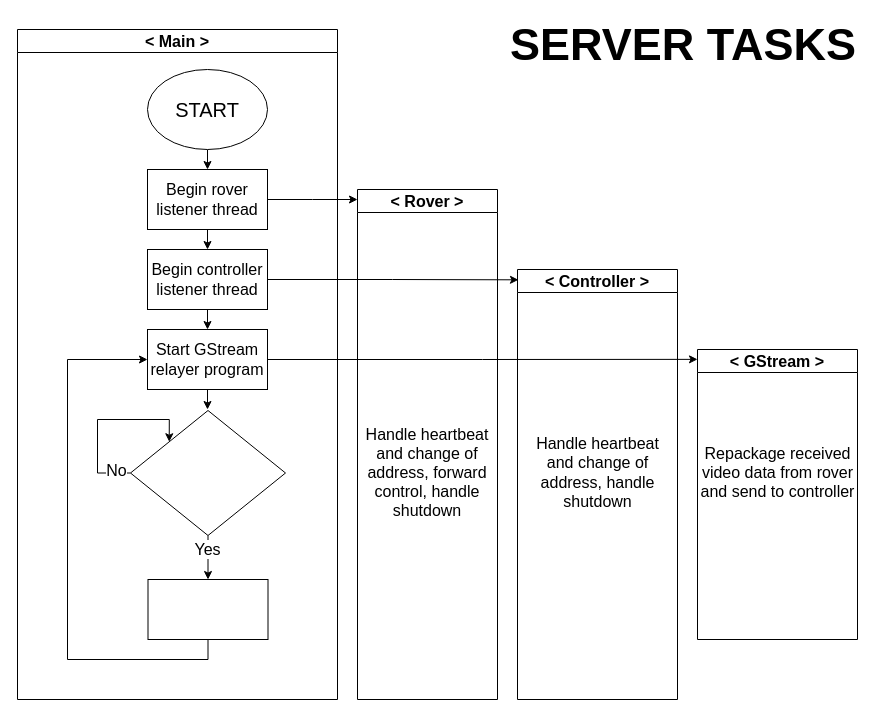
The diagram is 885 pixels wide and 717 high, and some of its shapes have lost their labels. Here are the shapes that lost their labels. From the top down, the centre of each, then its label:
point (208, 473): Did the address for the controller change?
point (207, 609): Stop GStream relayer program
